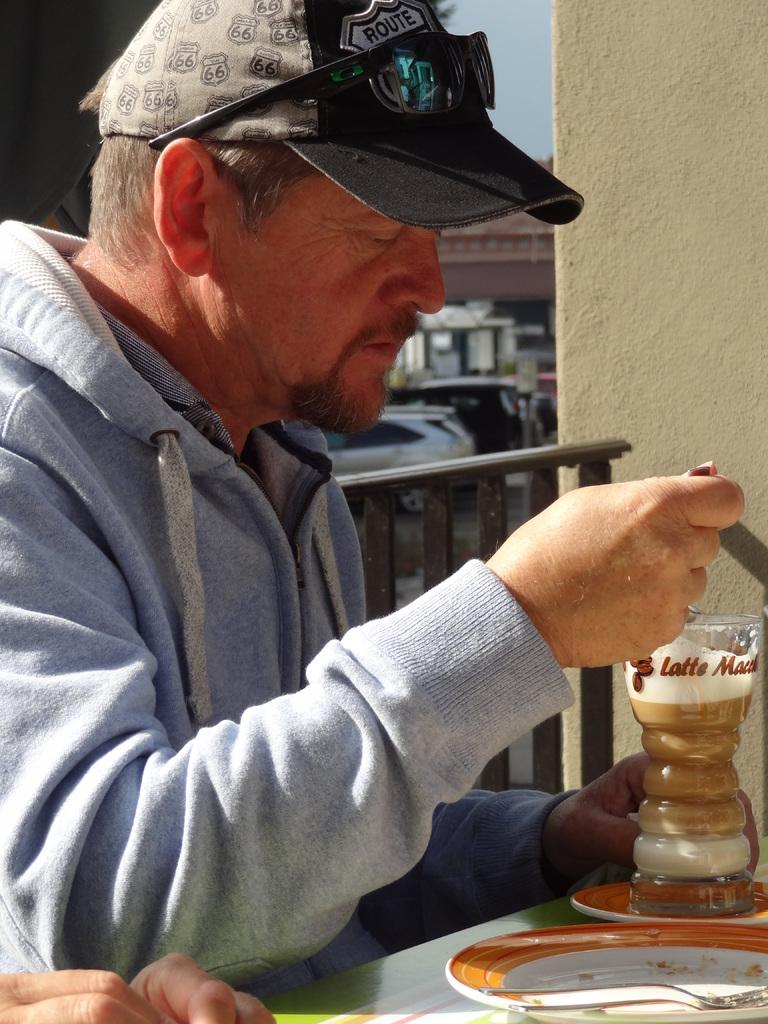Hat: (98, 0, 584, 228)
